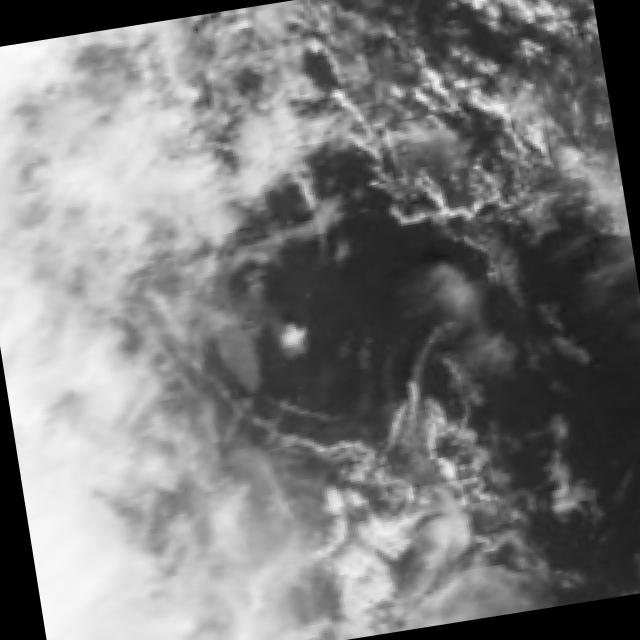CB: (0, 239, 175, 468), (20, 446, 213, 640), (0, 31, 143, 251)
